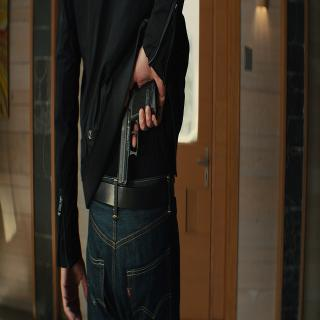gun: (111, 52, 162, 199)
